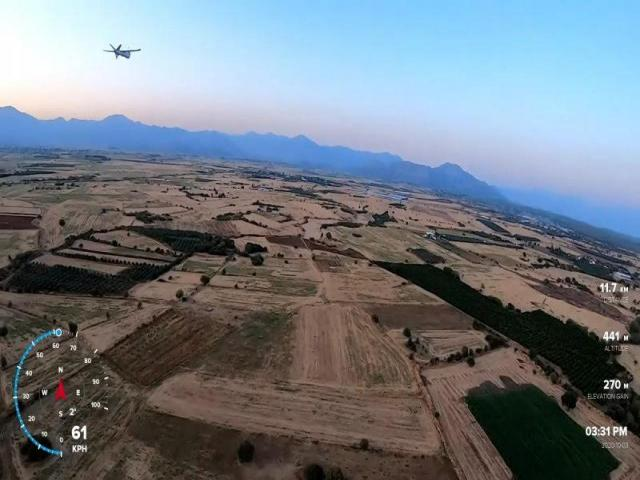hedef: (99, 40, 141, 64)
